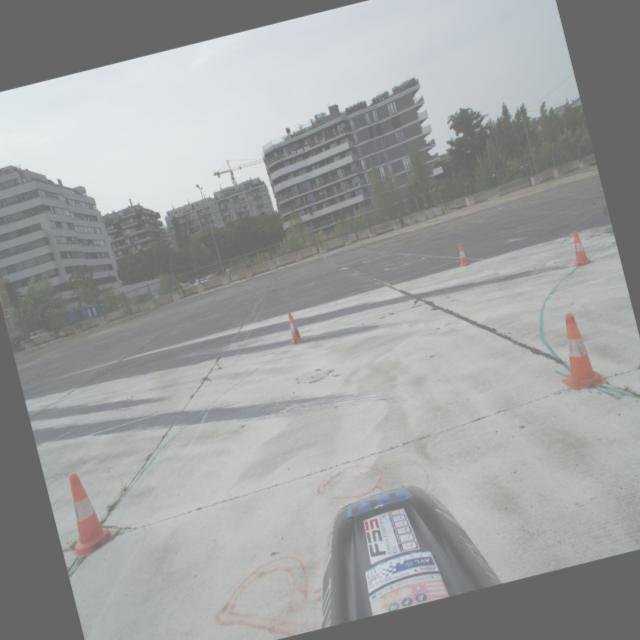orange_cone: (54, 466, 118, 560), (545, 307, 608, 393), (562, 228, 594, 268), (280, 310, 306, 346), (452, 242, 470, 268)
